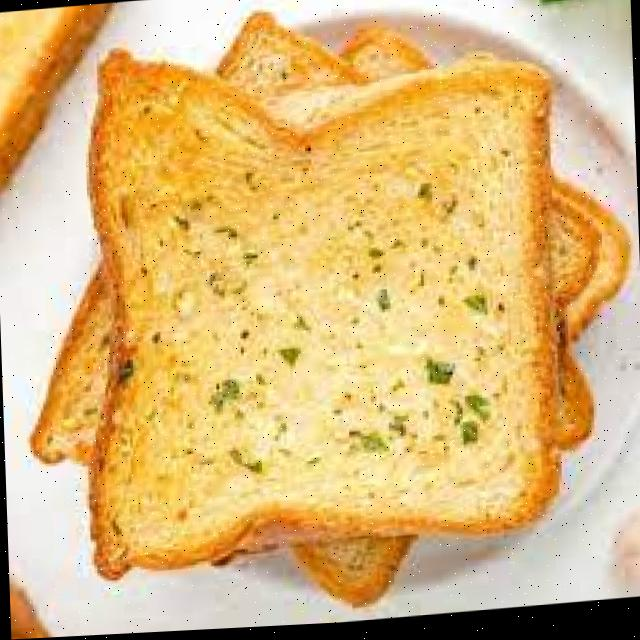Bread: (84, 54, 557, 572)
